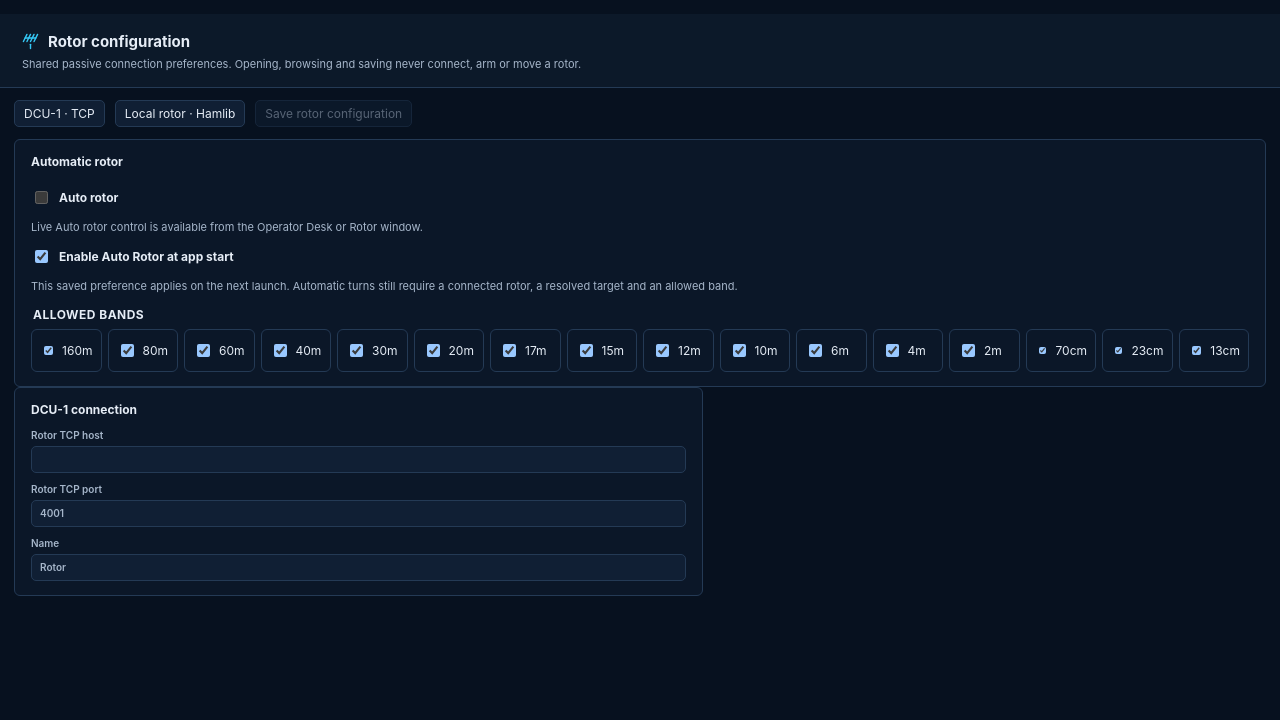
Scenario: independent rotor panel › saves startup opt-in and allowed bands without touching hardware
The width and height of the screenshot is (1280, 720).
Click the checkbox labelled "40m": (280, 350) [274,336,286,364]
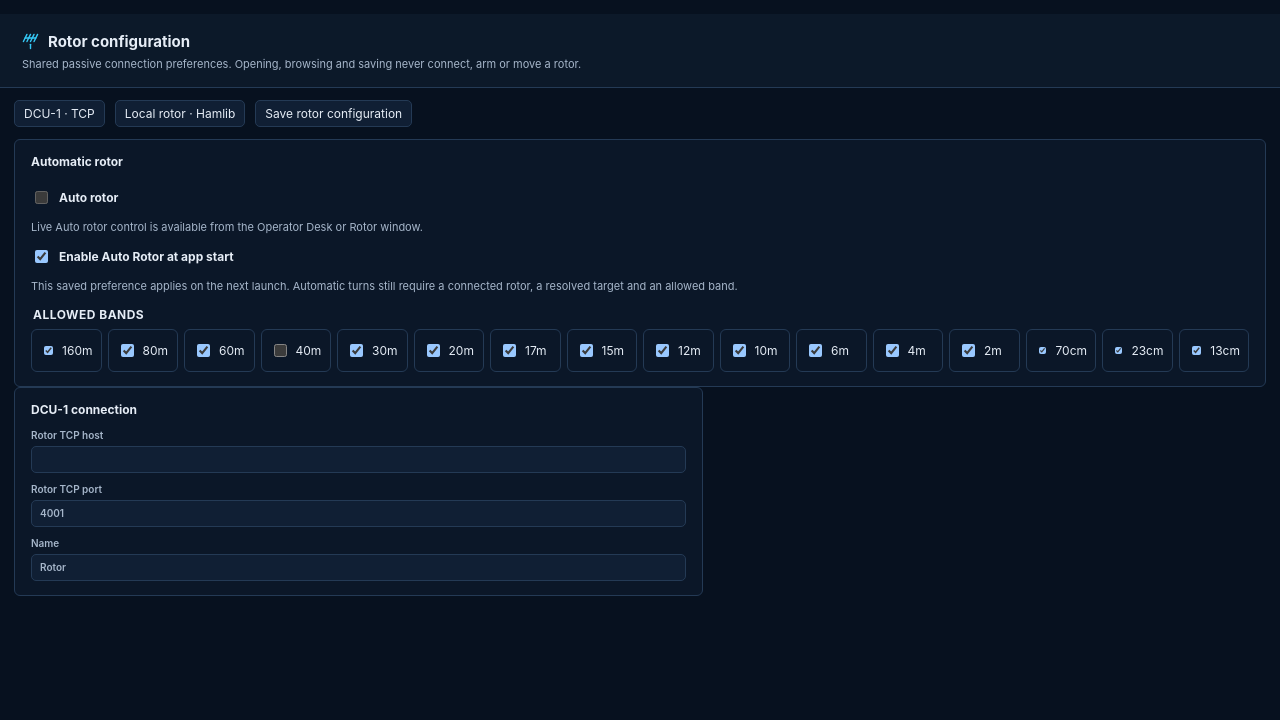
Click the button "Save rotor configuration": (334, 113) [255,100,412,126]
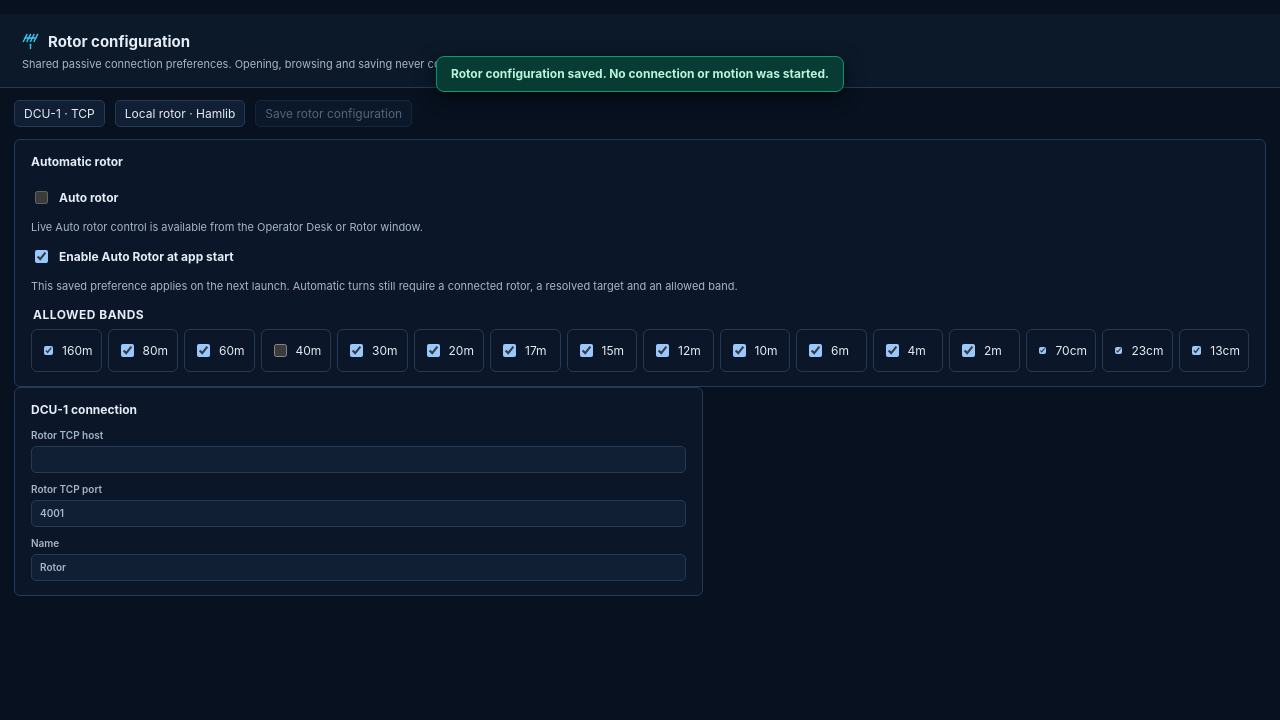
Expected: the text "Rotor configuration saved. No connection or motion was started." is shown, [436,56,844,92]
